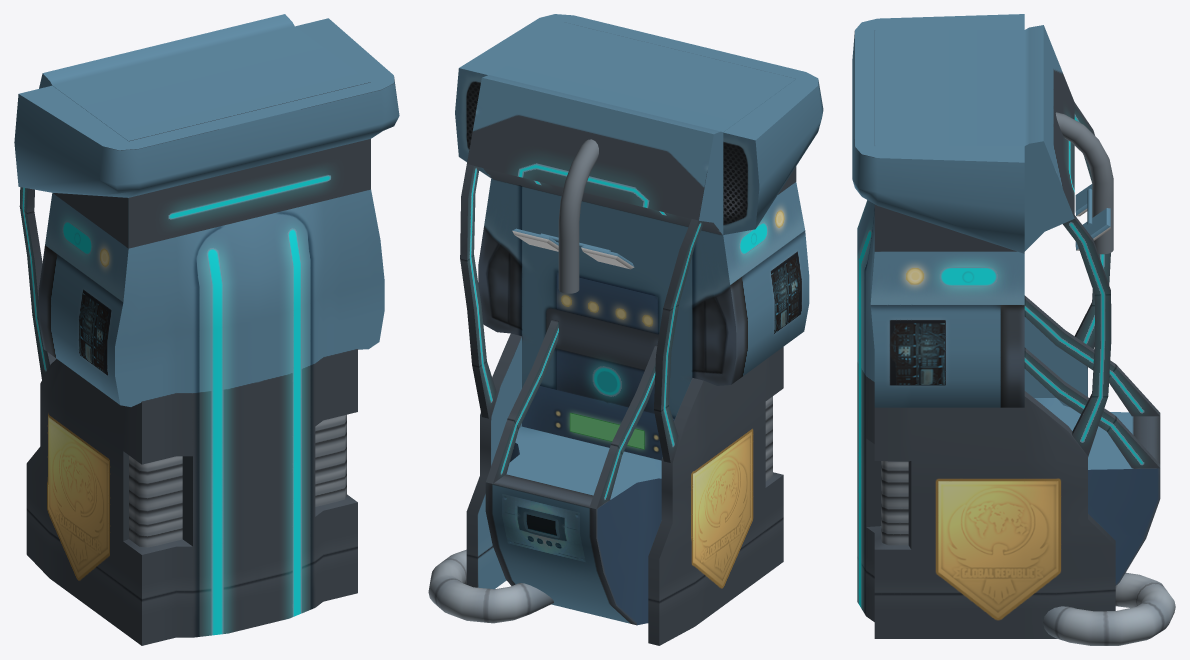
Rendered from mesh_resourcepickup.fbx.
The picture shows the model from 3 angles, left to right: view 1: azimuth 30°, elevation 25°; view 2: azimuth 150°, elevation 25°; view 3: azimuth 270°, elevation 25°; orthographic projection. The views are drawn at different scales.
Visible parts, largest first — view 1: resource_pickup; view 2: resource_pickup; view 3: resource_pickup.
Part boxes in pixels (bbox=[...]): resource_pickup: bbox=[14, 14, 399, 645]; resource_pickup: bbox=[428, 14, 823, 645]; resource_pickup: bbox=[852, 14, 1175, 645].
Bounding box in the file's own units: 47.26 × 72.79 × 42.35.
